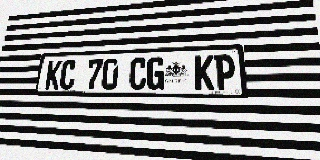0: (101, 58, 119, 90)
7: (85, 59, 103, 90)
C: (129, 57, 147, 90), (59, 60, 77, 90)
G: (146, 57, 165, 90)
K: (195, 55, 215, 90), (45, 60, 62, 90)
P: (214, 54, 236, 90)
